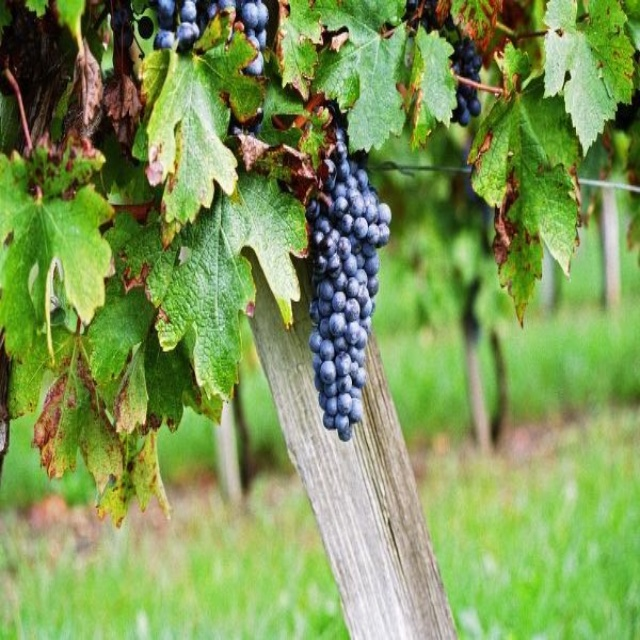grape: (305, 121, 394, 443)
